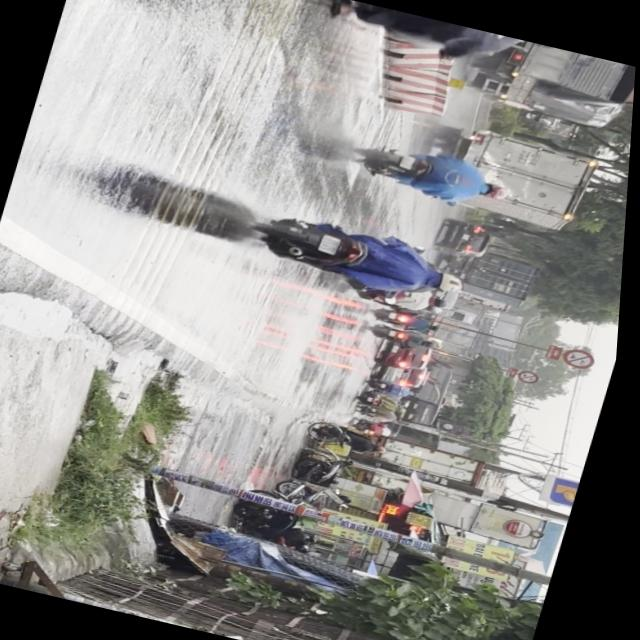helmet: (434, 268, 471, 292), (519, 38, 575, 53)
licenseplate: (254, 0, 580, 82), (241, 200, 481, 308)
nohelmet: (323, 232, 346, 254)
